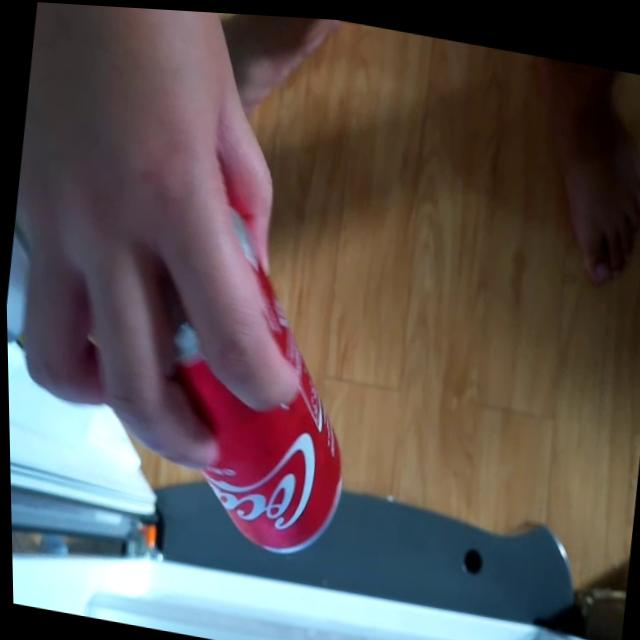coke: (132, 185, 379, 568)
